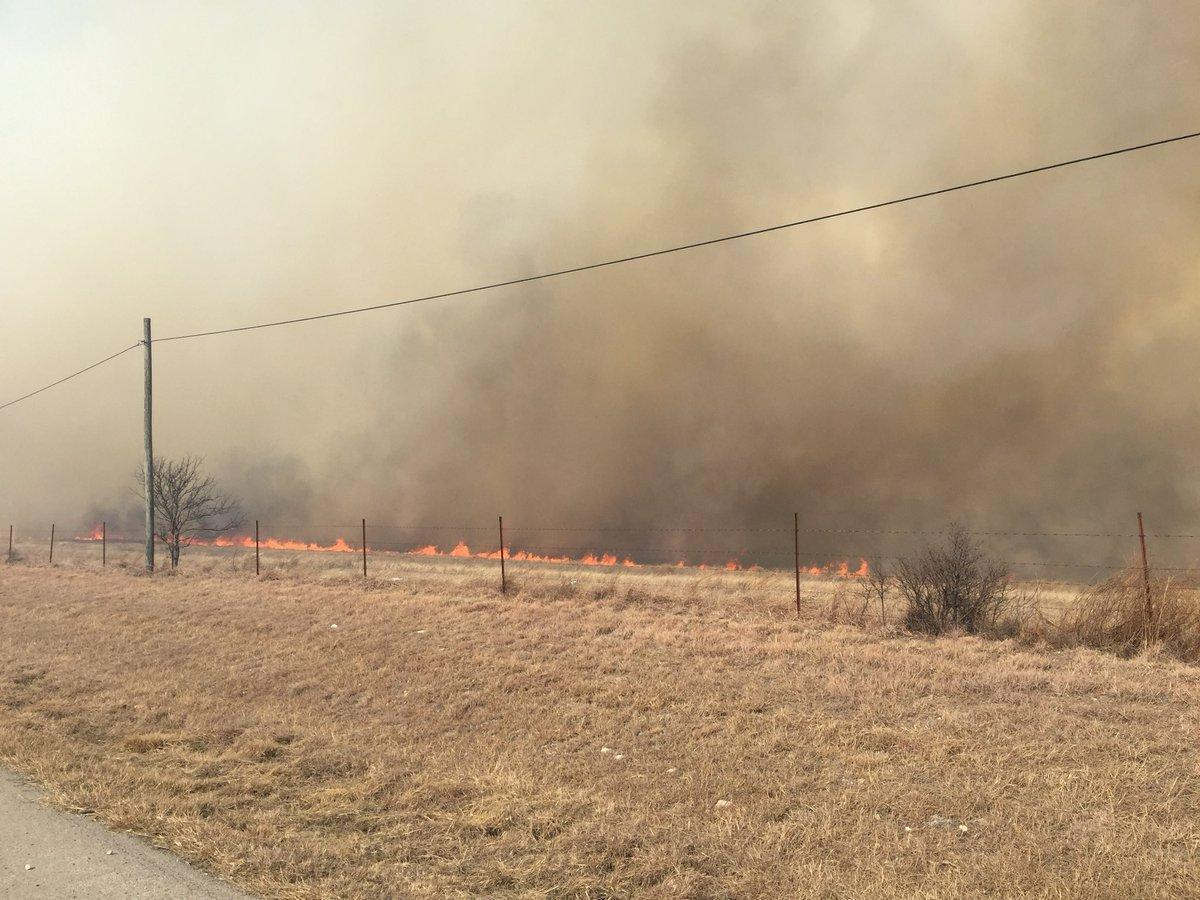fire: (178, 517, 880, 582), (76, 534, 102, 542)
